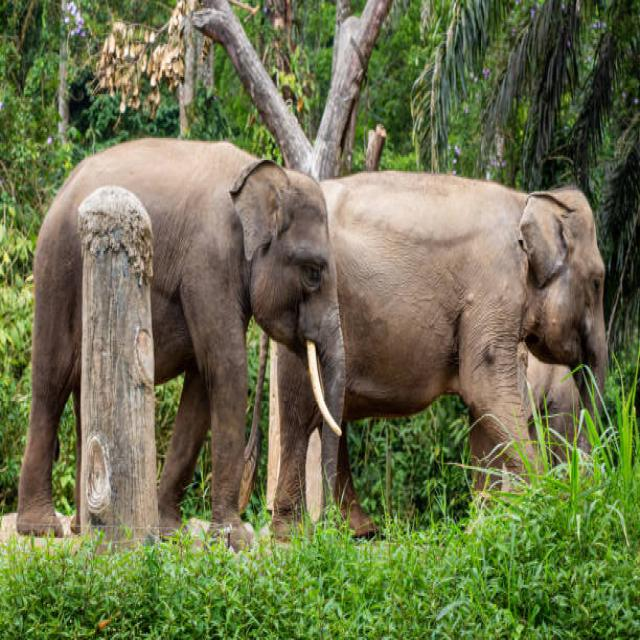Elephant: (15, 132, 348, 548), (314, 161, 608, 540)
